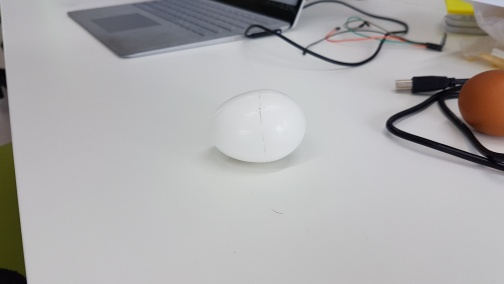egg: (209, 87, 307, 164), (457, 69, 504, 139)
